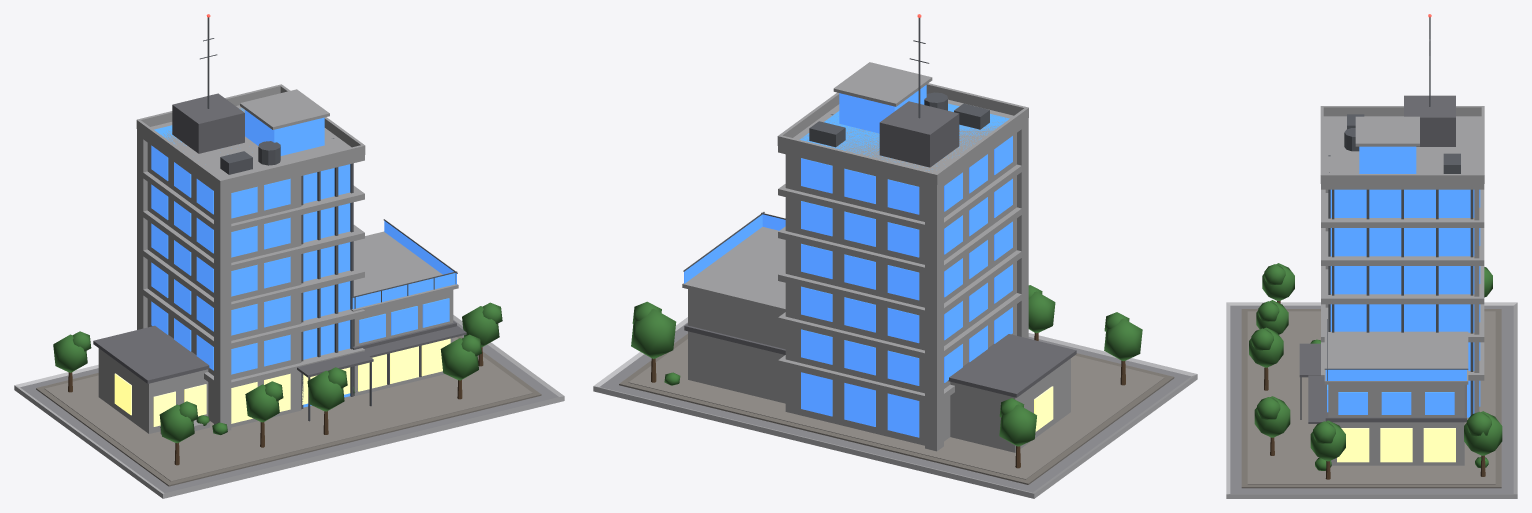
Rendered from modern_building.glb.
3 views of the same model, side by side, from view 1: azimuth 30°, elevation 25°; view 2: azimuth 150°, elevation 25°; view 3: azimuth 270°, elevation 25° (orthographic). The views are drawn at different scales.
Parts seen in each view (by area): view 1: Modern_Building_Concrete, Modern_Building_Glass, Modern_Building_Pavers, Modern_Building_Dark_Concrete, Base_Modern_Building, Modern_Building_Foliage, Modern_Building_Warm, Modern_Building_Metal, Modern_Building_Stone, Modern_Building_Trunk; view 2: Modern_Building_Concrete, Modern_Building_Glass, Modern_Building_Pavers, Base_Modern_Building, Modern_Building_Dark_Concrete, Modern_Building_Foliage, Modern_Building_Stone, Modern_Building_Metal, Modern_Building_Warm; view 3: Modern_Building_Concrete, Modern_Building_Glass, Modern_Building_Pavers, Base_Modern_Building, Modern_Building_Foliage, Modern_Building_Dark_Concrete, Modern_Building_Metal, Modern_Building_Stone, Modern_Building_Warm, Modern_Building_Trunk.
Boxes of the visible parts, x1,y1,x2,y2 form: Modern_Building_Concrete: (98, 84, 458, 434); Modern_Building_Glass: (151, 108, 456, 407); Modern_Building_Pavers: (45, 337, 532, 481); Modern_Building_Dark_Concrete: (93, 93, 466, 383); Base_Modern_Building: (14, 315, 564, 498); Modern_Building_Foliage: (53, 302, 502, 443); Modern_Building_Warm: (114, 338, 450, 426); Modern_Building_Metal: (200, 17, 457, 421); Modern_Building_Stone: (36, 336, 541, 486); Modern_Building_Trunk: (68, 347, 483, 465); Modern_Building_Concrete: (682, 62, 1070, 452); Modern_Building_Glass: (684, 85, 1012, 437); Modern_Building_Pavers: (628, 339, 1164, 479); Base_Modern_Building: (593, 317, 1197, 498); Modern_Building_Dark_Concrete: (684, 101, 1076, 397); Modern_Building_Foliage: (631, 285, 1142, 446); Modern_Building_Stone: (619, 334, 1174, 484); Modern_Building_Metal: (683, 18, 989, 271); Modern_Building_Warm: (1034, 386, 1053, 431); Modern_Building_Concrete: (1320, 106, 1484, 465); Modern_Building_Glass: (1325, 146, 1480, 417); Modern_Building_Pavers: (1247, 311, 1495, 484); Base_Modern_Building: (1226, 302, 1517, 498); Modern_Building_Foliage: (1249, 263, 1502, 470); Modern_Building_Dark_Concrete: (1299, 95, 1466, 423); Modern_Building_Metal: (1300, 17, 1473, 419); Modern_Building_Stone: (1241, 309, 1501, 488); Modern_Building_Warm: (1337, 428, 1455, 462); Modern_Building_Trunk: (1264, 301, 1485, 479).
Bounding box in the file's own units: 88.98 × 78.82 × 57.13.
